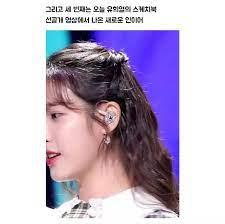earphone: (102, 109, 115, 126)
